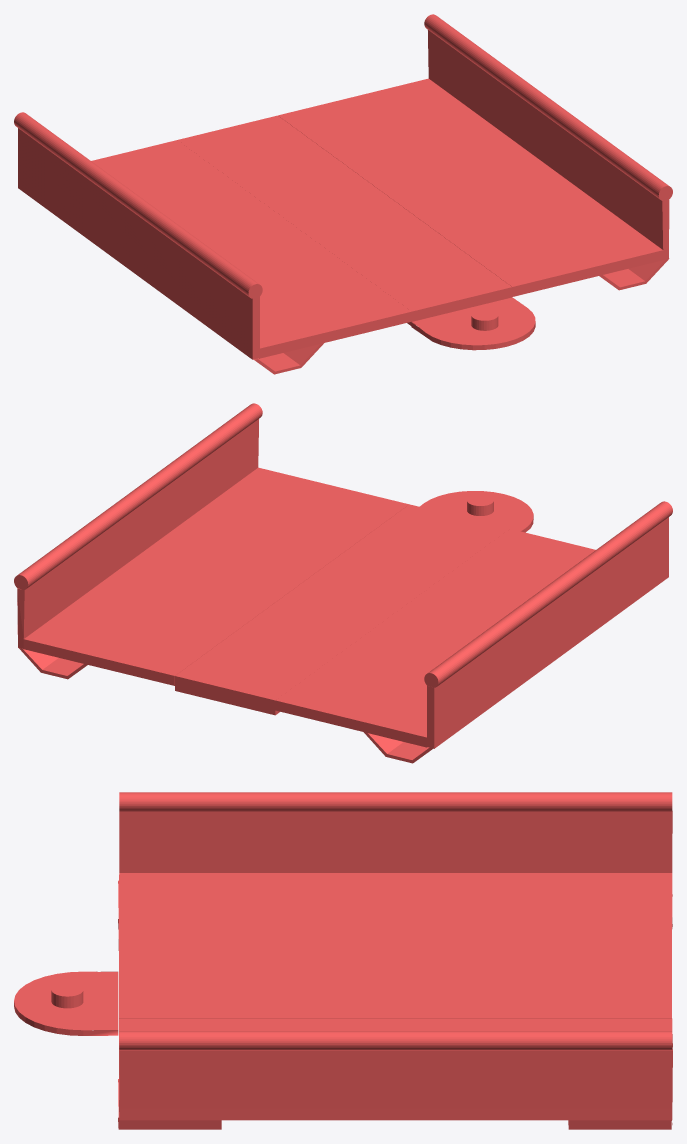
Rendered from trackpiece-sm.glb.
3 views of the same model, one above another, from view 1: azimuth 30°, elevation 25°; view 2: azimuth 150°, elevation 25°; view 3: azimuth 270°, elevation 25° (orthographic). The views are drawn at different scales.
Visible parts, largest first — view 1: Track piece/short, Track piece/short.001; view 2: Track piece/short, Track piece/short.001; view 3: Track piece/short, Track piece/short.001.
Part boxes in pixels (bbox=[...]): Track piece/short: bbox=[14, 14, 672, 374]; Track piece/short.001: bbox=[411, 297, 535, 350]; Track piece/short: bbox=[14, 403, 672, 763]; Track piece/short.001: bbox=[419, 491, 533, 532]; Track piece/short: bbox=[118, 792, 672, 1129]; Track piece/short.001: bbox=[14, 971, 118, 1035].
Size of the model in its own units: 8.34 by 1.78 by 9.5.
